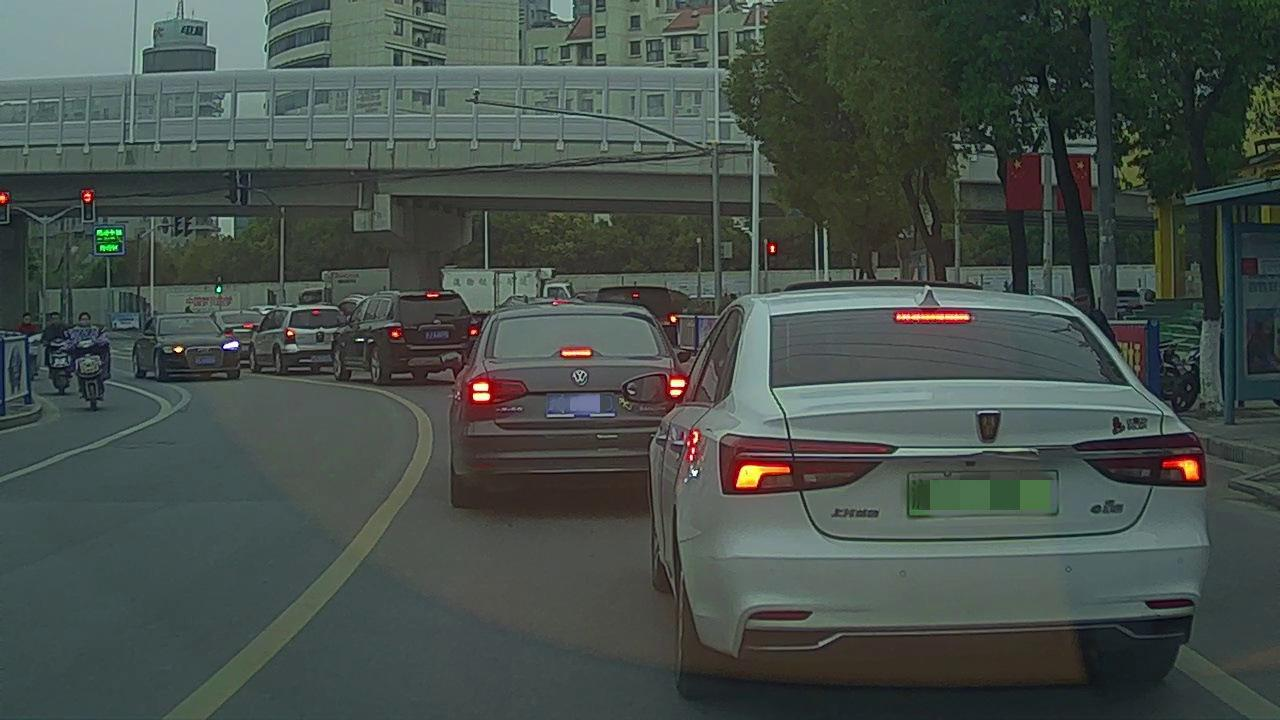traffic_light: (81, 189, 94, 224)
